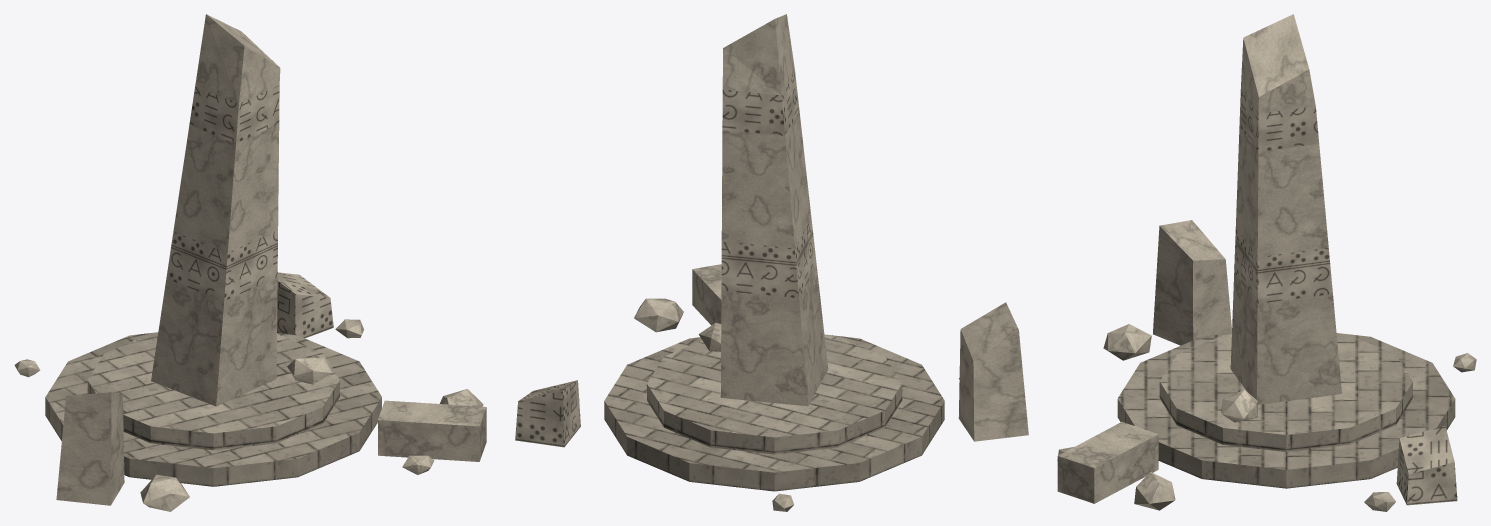
File: ruin-obelisk.glb
3 views of the same model, side by side, from view 1: azimuth 30°, elevation 25°; view 2: azimuth 150°, elevation 25°; view 3: azimuth 270°, elevation 25° (orthographic).
Visible parts, largest first — view 1: ruin-obelisk; view 2: ruin-obelisk; view 3: ruin-obelisk.
Part boxes in pixels (bbox=[...]): ruin-obelisk: bbox=[14, 14, 486, 511]; ruin-obelisk: bbox=[515, 14, 1028, 511]; ruin-obelisk: bbox=[1057, 14, 1476, 511].
Size of the model in its own units: 5.01 by 4.72 by 4.47.
3 materials, 3 textured.
